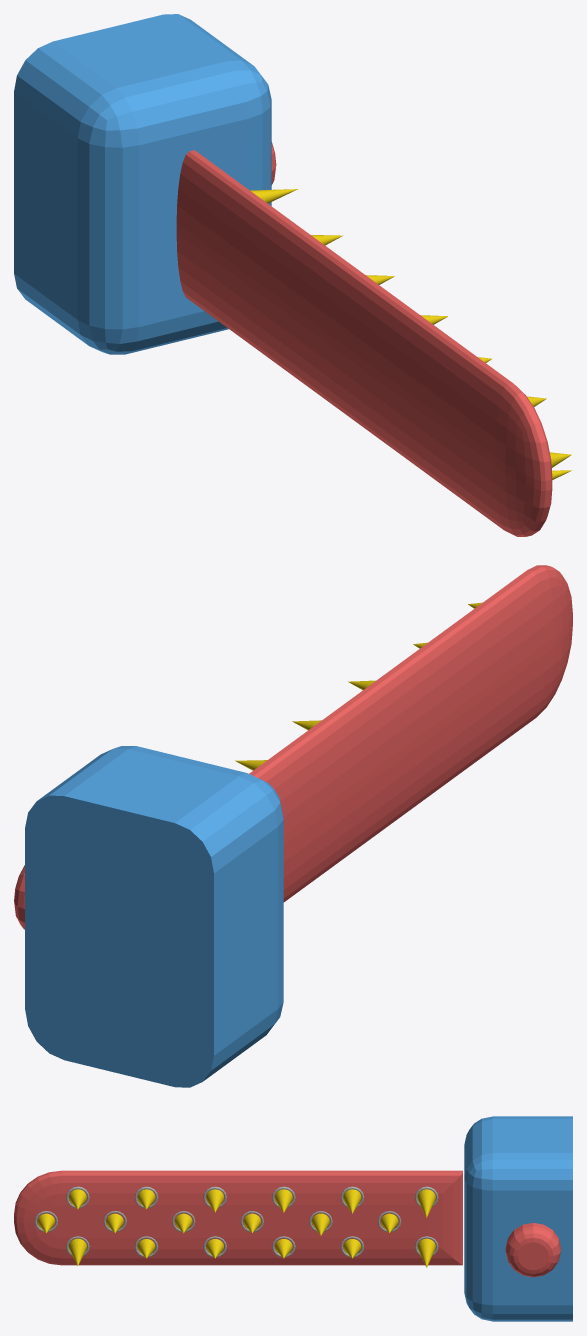
The model's file is obstacle01.fbx.
The picture shows the model from 3 angles, top to bottom: view 1: azimuth 30°, elevation 25°; view 2: azimuth 150°, elevation 25°; view 3: azimuth 270°, elevation 25°; orthographic projection. The views are drawn at different scales.
Parts seen in each view (by area): view 1: obstacle01.2, obstacle01.1; view 2: obstacle01.2, obstacle01.1; view 3: obstacle01.1, obstacle01.2.
Part boxes in pixels (bbox=[...]): obstacle01.2: bbox=[14, 14, 276, 354]; obstacle01.1: bbox=[176, 150, 571, 536]; obstacle01.2: bbox=[14, 746, 283, 1087]; obstacle01.1: bbox=[235, 565, 572, 902]; obstacle01.1: bbox=[14, 1170, 462, 1267]; obstacle01.2: bbox=[464, 1116, 572, 1321].
Bounding box in the file's own units: 20.4 × 23.74 × 72.53.
